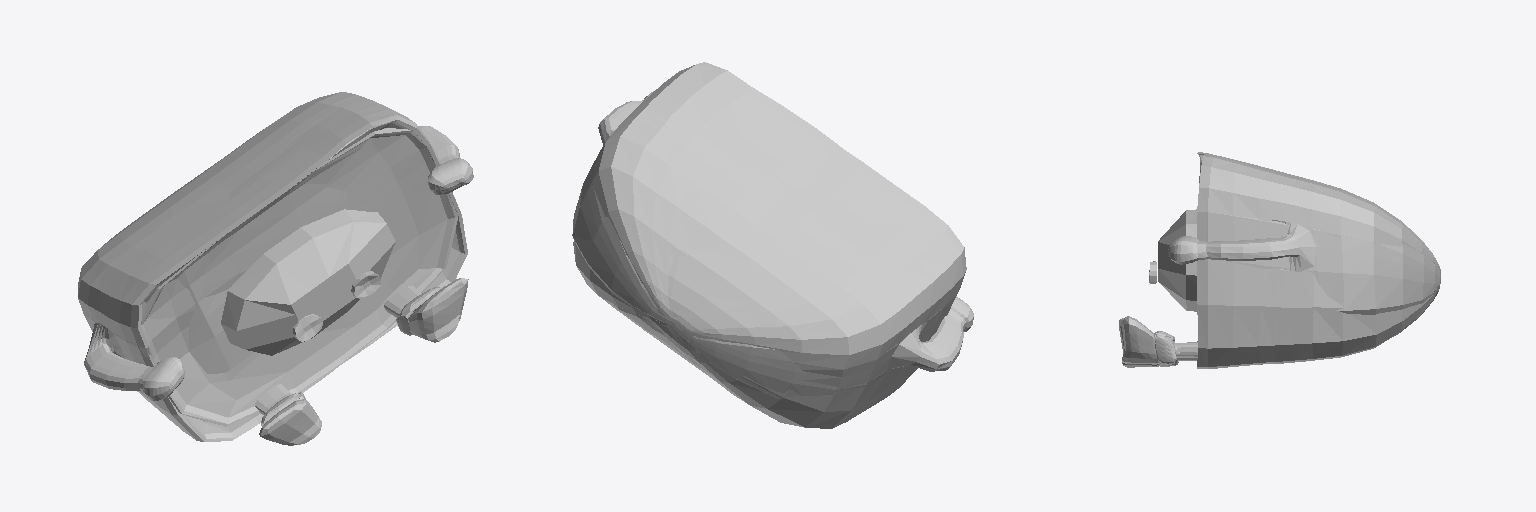
File: Pal_000027.obj
3 renders of one model, left to right at view 1: azimuth 30°, elevation 25°; view 2: azimuth 150°, elevation 25°; view 3: azimuth 270°, elevation 25°, orthographic.
Parts seen in each view (by area): view 1: Cuerpo_de_aguacate_3.001_Cube.002, Hueso_Cubo.003, Ojos_Cubo.002; view 2: Cuerpo_de_aguacate_3.001_Cube.002; view 3: Cuerpo_de_aguacate_3.001_Cube.002, Hueso_Cubo.003.
Part boxes in pixels (x1,y1,x2,y2): Cuerpo_de_aguacate_3.001_Cube.002: (78,92,473,445); Hueso_Cubo.003: (221,209,395,355); Ojos_Cubo.002: (293,271,380,341); Cuerpo_de_aguacate_3.001_Cube.002: (572,62,973,428); Cuerpo_de_aguacate_3.001_Cube.002: (1119,152,1440,368); Hueso_Cubo.003: (1158,209,1196,311).
Size of the model in its own units: 1.27 by 0.9699 by 1.01.